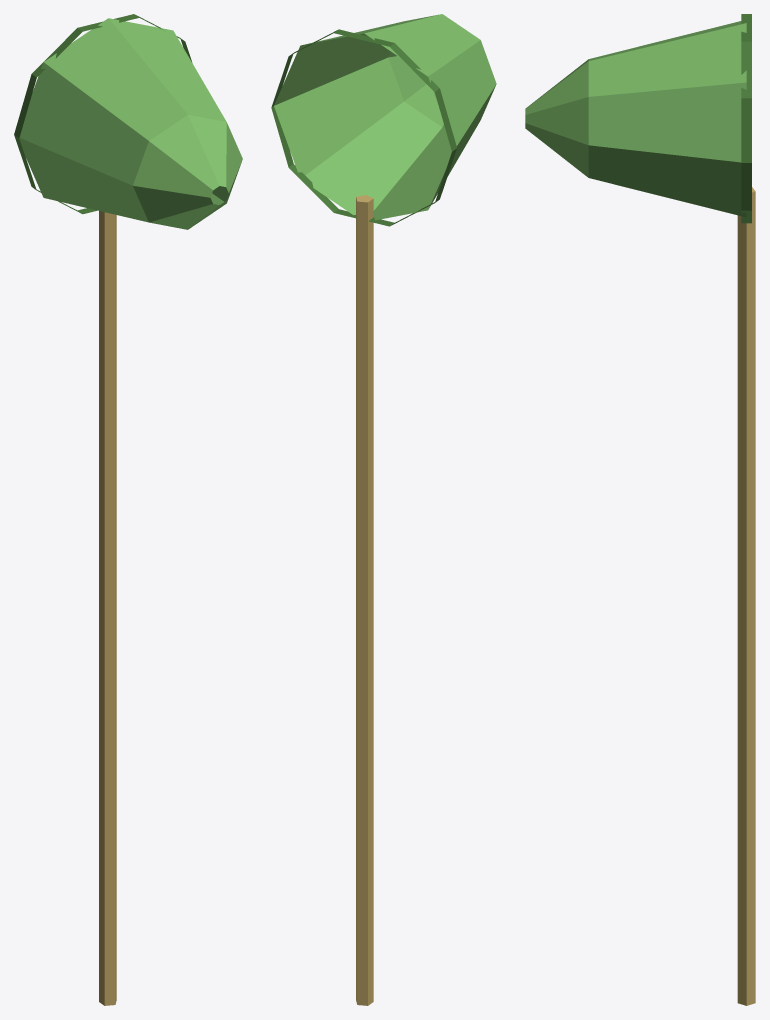
Rendered from bugnet.glb.
3 renders of one model, left to right at view 1: azimuth 30°, elevation 25°; view 2: azimuth 150°, elevation 25°; view 3: azimuth 270°, elevation 25°, orthographic.
Visible parts, largest first — view 1: bugnet; view 2: bugnet; view 3: bugnet.
Boxes of the visible parts, left/top/right/bottom form: bugnet: left=14, top=14, right=242, bottom=1005; bugnet: left=271, top=14, right=496, bottom=1005; bugnet: left=525, top=14, right=755, bottom=1005.
Size of the model in its own units: 0.4 by 2.05 by 0.4371.
